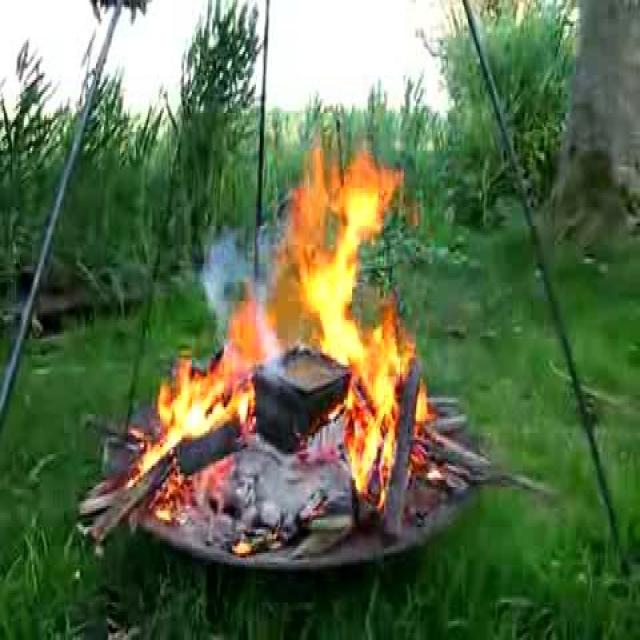fire: (303, 145, 402, 464), (161, 359, 235, 428)
